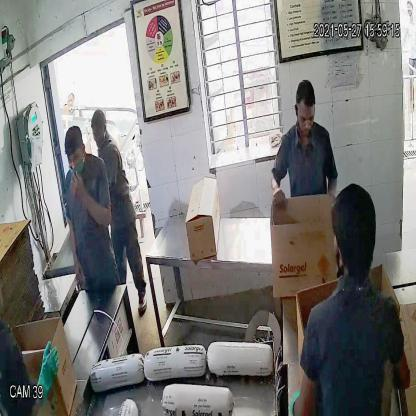no_goggles: (294, 107, 318, 129)
